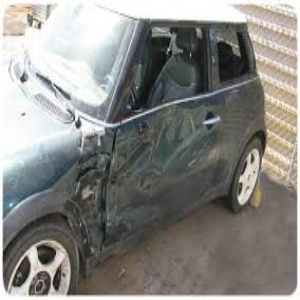door: (106, 123, 226, 213)
